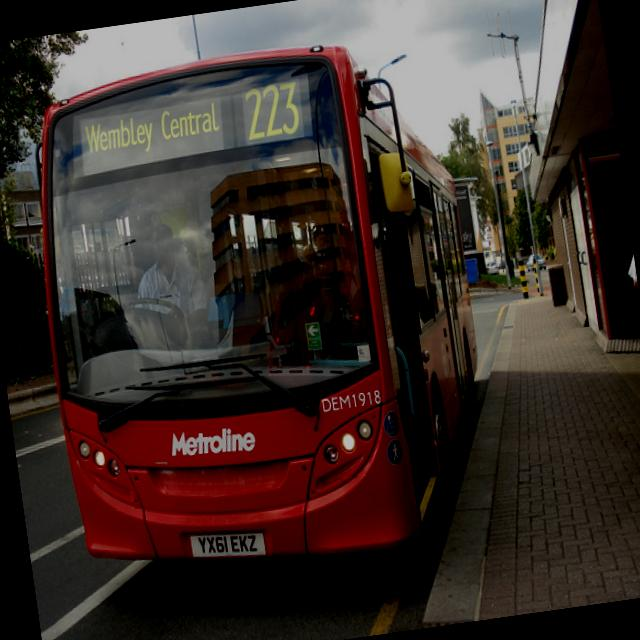Vehicle: (11, 28, 512, 604)
